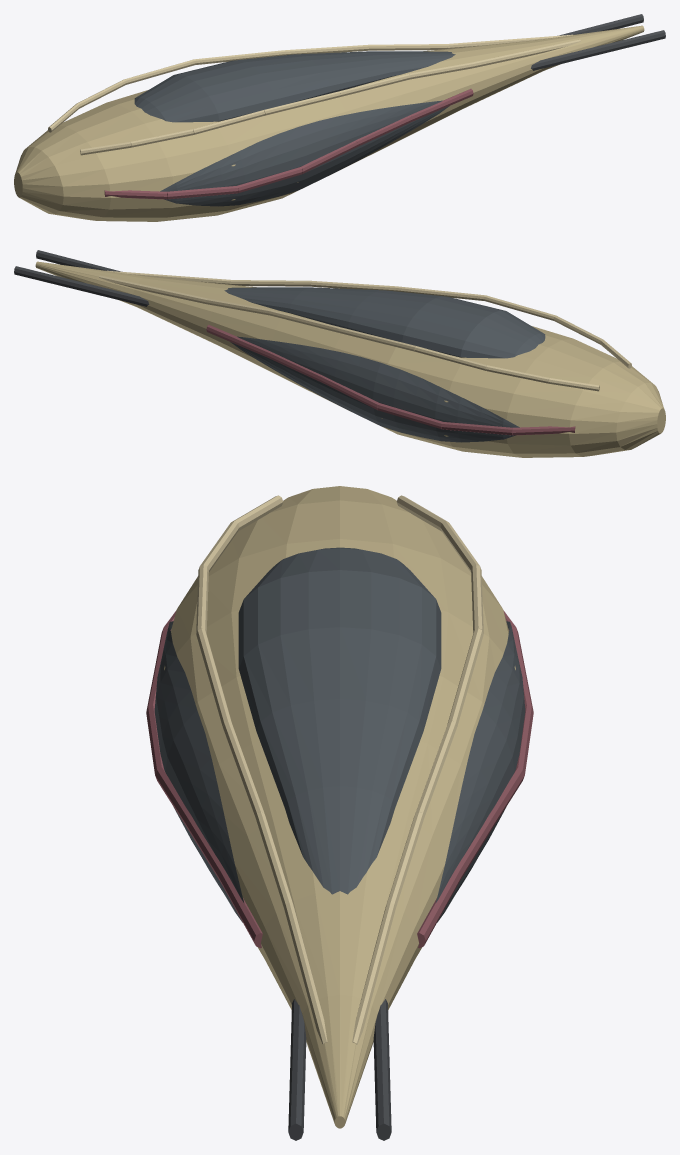
Rendered from niruch_gold_off.glb.
3 views of the same model, one above another, from view 1: azimuth 30°, elevation 25°; view 2: azimuth 150°, elevation 25°; view 3: azimuth 270°, elevation 25° (orthographic). The views are drawn at different scales.
Parts seen in each view (by area): view 1: main_hull_0, canopy_2, side_window_1, golden_upper_rail_3, side_sweep_4, front_fork_5; view 2: main_hull_0, canopy_2, side_window_1, golden_upper_rail_3, side_sweep_4, front_fork_5; view 3: main_hull_0, canopy_2, side_window_1, golden_upper_rail_3, side_sweep_4, front_fork_5.
Part boxes in pixels (x1,y1,x2,y2): main_hull_0: [14, 25, 644, 221]; canopy_2: [134, 51, 455, 122]; side_window_1: [160, 100, 449, 206]; golden_upper_rail_3: [48, 34, 580, 155]; side_sweep_4: [104, 88, 473, 199]; front_fork_5: [531, 14, 665, 70]; main_hull_0: [35, 261, 665, 457]; canopy_2: [224, 287, 545, 358]; side_window_1: [230, 336, 519, 442]; golden_upper_rail_3: [99, 270, 631, 391]; side_sweep_4: [206, 324, 575, 435]; front_fork_5: [14, 250, 149, 306]; main_hull_0: [164, 486, 515, 1128]; canopy_2: [238, 547, 441, 894]; side_window_1: [154, 621, 525, 922]; golden_upper_rail_3: [196, 495, 483, 1044]; side_sweep_4: [146, 610, 533, 948]; front_fork_5: [288, 999, 391, 1140].
Bounding box in the file's own units: 8.13 × 1.52 × 2.15.
